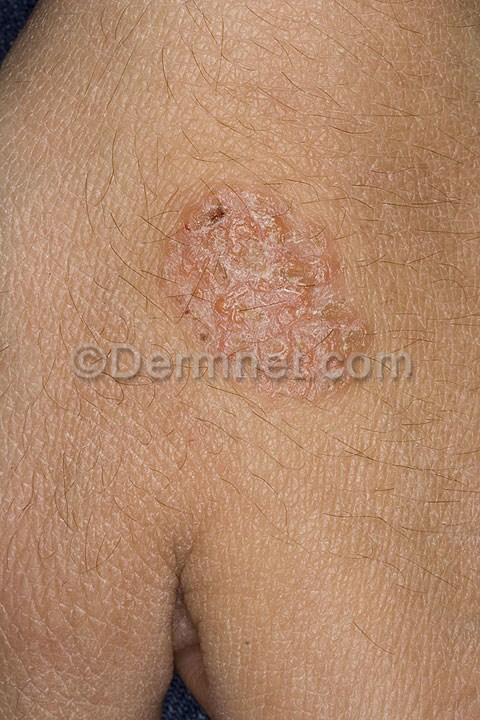Eczema: (149, 194, 372, 421)
